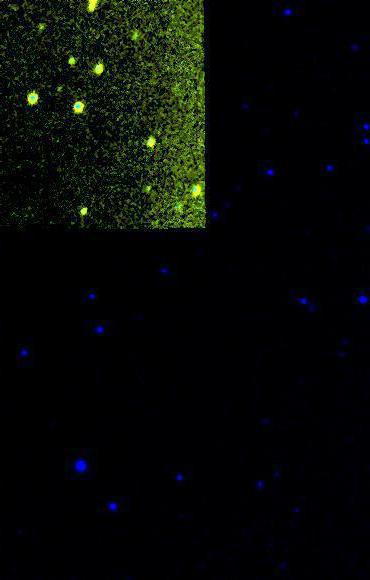star: (28, 10, 58, 40)
